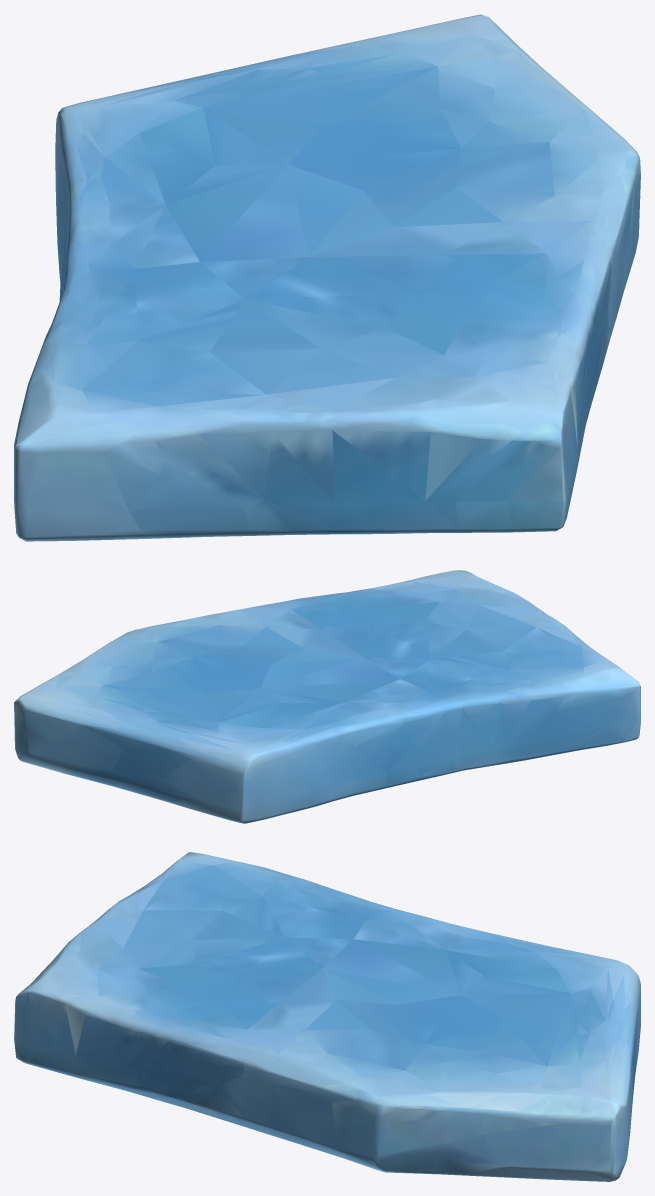
File: placa_hielo_rota_2_1200.glb
3 views of the same model, one above another, from view 1: azimuth 30°, elevation 25°; view 2: azimuth 150°, elevation 25°; view 3: azimuth 270°, elevation 25° (orthographic). The views are drawn at different scales.
Parts seen in each view (by area): view 1: placa_hielo_rota_2_malla; view 2: placa_hielo_rota_2_malla; view 3: placa_hielo_rota_2_malla.
Boxes of the visible parts, bbox=[...] form: placa_hielo_rota_2_malla: bbox=[14, 14, 640, 541]; placa_hielo_rota_2_malla: bbox=[14, 570, 640, 823]; placa_hielo_rota_2_malla: bbox=[14, 852, 640, 1181].
Bounding box in the file's own units: 0.1835 × 0.0277 × 0.1831.
1 material, 1 textured.
